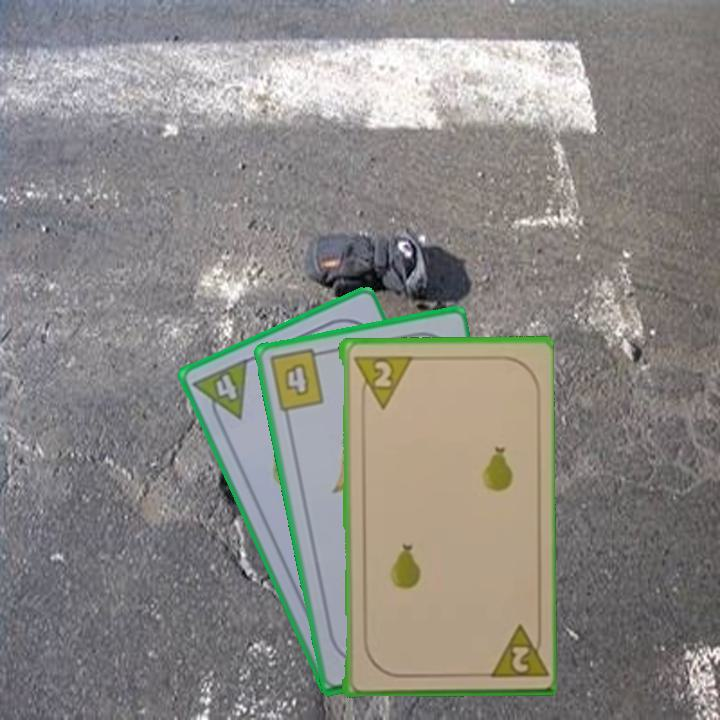2p: (482, 620, 547, 681), (349, 351, 412, 411)
4b: (265, 346, 329, 414)
4p: (189, 355, 251, 430)
